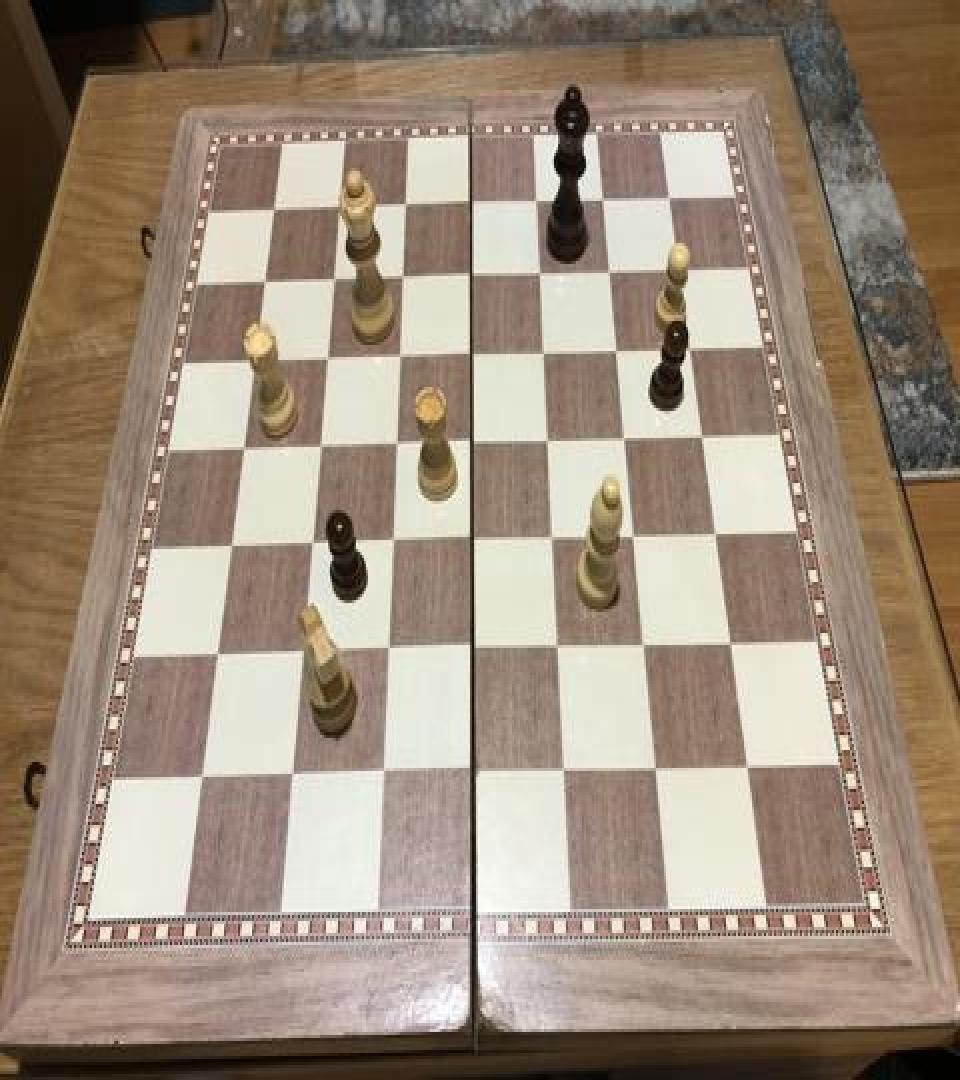xcorner: (701, 514, 725, 551), (457, 520, 481, 557), (629, 625, 653, 662), (372, 631, 396, 668), (733, 748, 757, 785), (276, 754, 300, 791), (656, 182, 680, 218), (590, 183, 614, 219), (524, 186, 548, 222), (392, 190, 416, 226), (327, 194, 351, 230), (262, 195, 286, 231), (666, 252, 690, 288), (596, 255, 620, 291), (527, 256, 551, 292), (389, 261, 413, 297), (321, 264, 345, 300), (253, 266, 277, 302), (676, 330, 700, 366), (603, 333, 627, 369), (530, 334, 554, 370), (458, 338, 482, 374), (385, 339, 409, 375), (314, 342, 338, 378), (688, 418, 712, 454), (611, 420, 635, 456), (534, 422, 558, 458), (457, 424, 481, 460), (381, 426, 405, 462), (306, 429, 330, 465), (620, 518, 644, 554), (538, 519, 562, 555), (377, 524, 401, 560), (297, 525, 321, 561), (217, 526, 241, 562), (716, 624, 740, 660), (543, 628, 567, 664), (457, 630, 481, 666), (287, 633, 311, 669), (203, 634, 227, 670), (640, 750, 664, 786), (548, 752, 572, 788), (457, 752, 481, 788), (366, 753, 390, 789), (186, 756, 210, 792), (458, 188, 482, 223), (458, 260, 482, 295), (242, 344, 266, 379), (231, 431, 255, 466)
